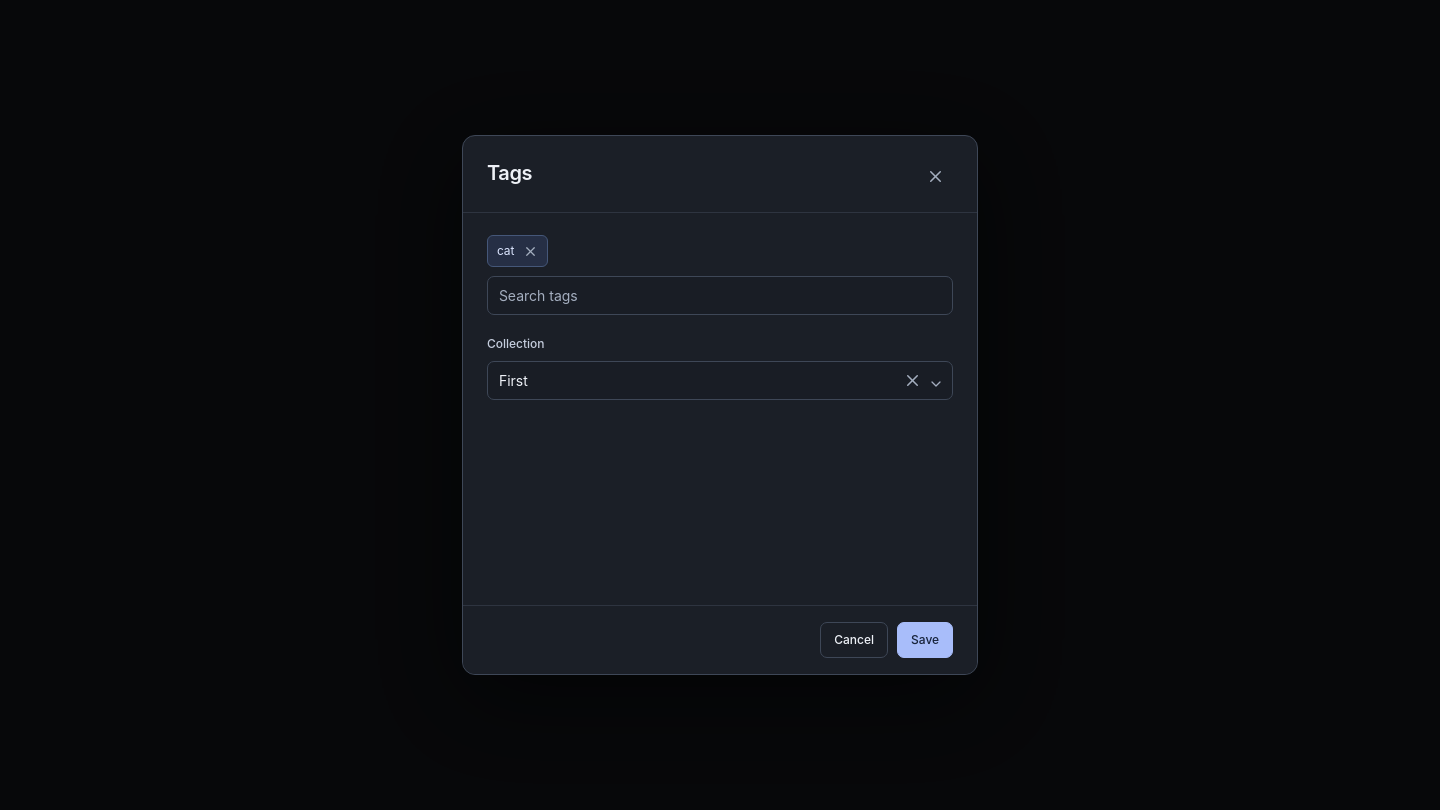
Scenario: keeps ID chips stable with duplicate labels and Cancel performs no write
Later steps or results of the test are not shown.
Type "cat" into the dropdown named "Add tags" at (720, 296), box [487,276,953,315]
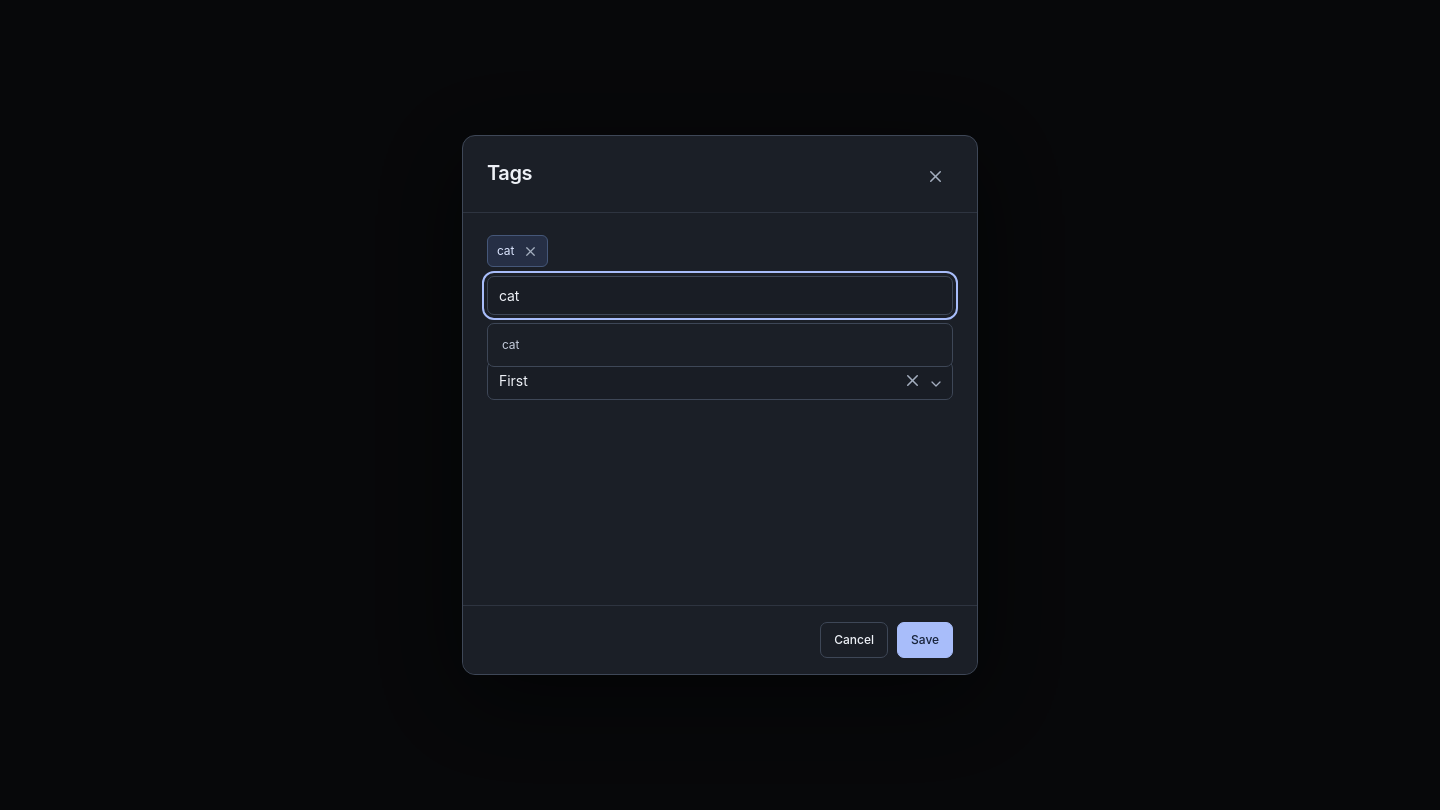
Click the option "cat" at (511, 344), box [502,337,520,352]
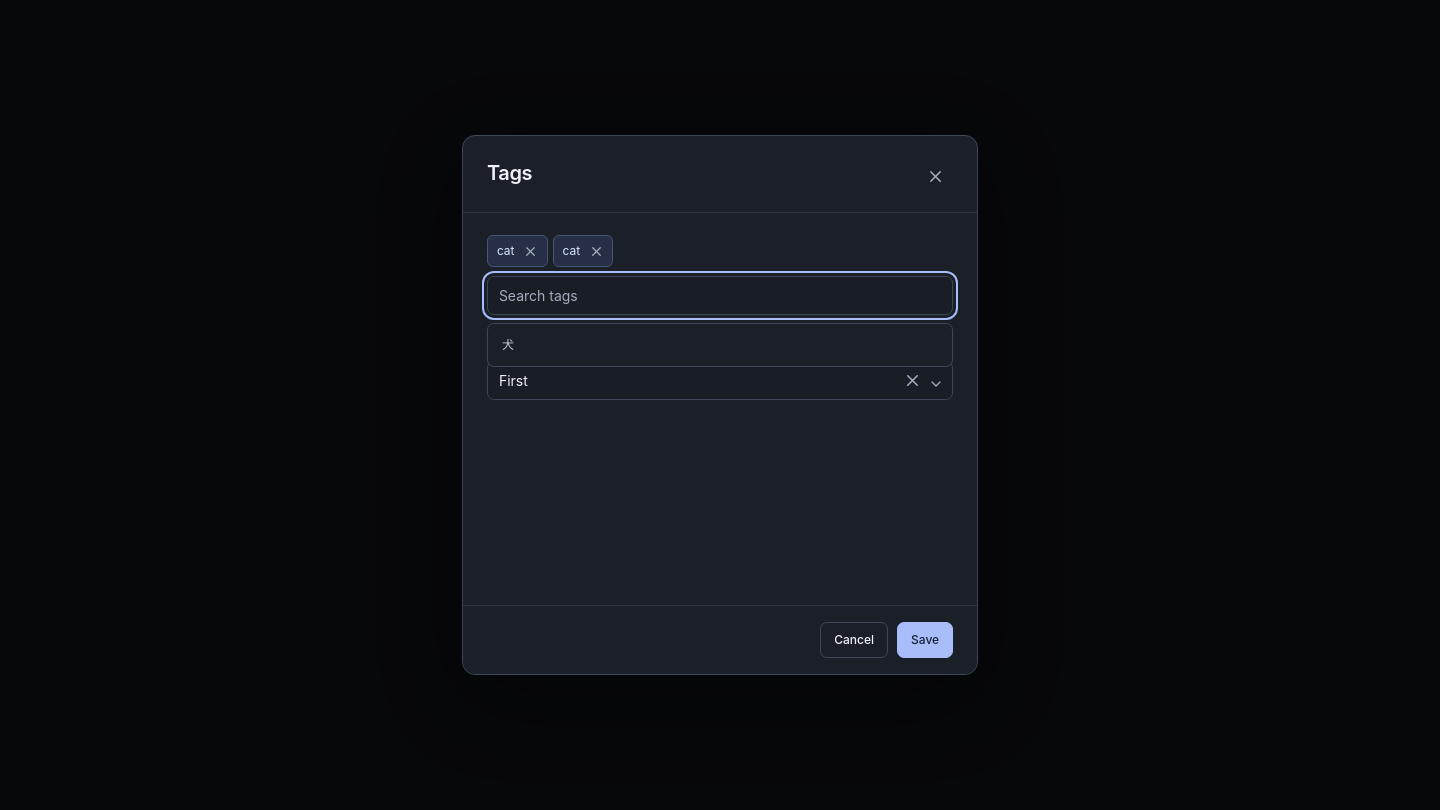
Expected: the number of buttons named "Remove cat" is 2, [518,238,544,264]; [583,238,609,264]
